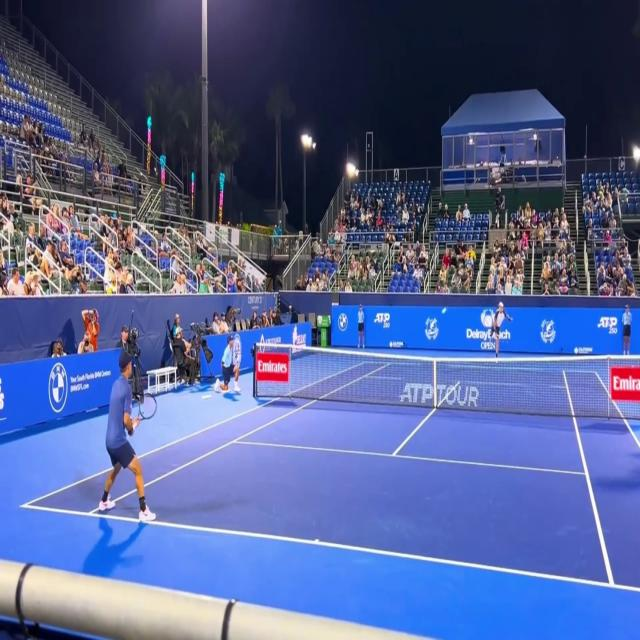tennisBall: (441, 304, 448, 318)
